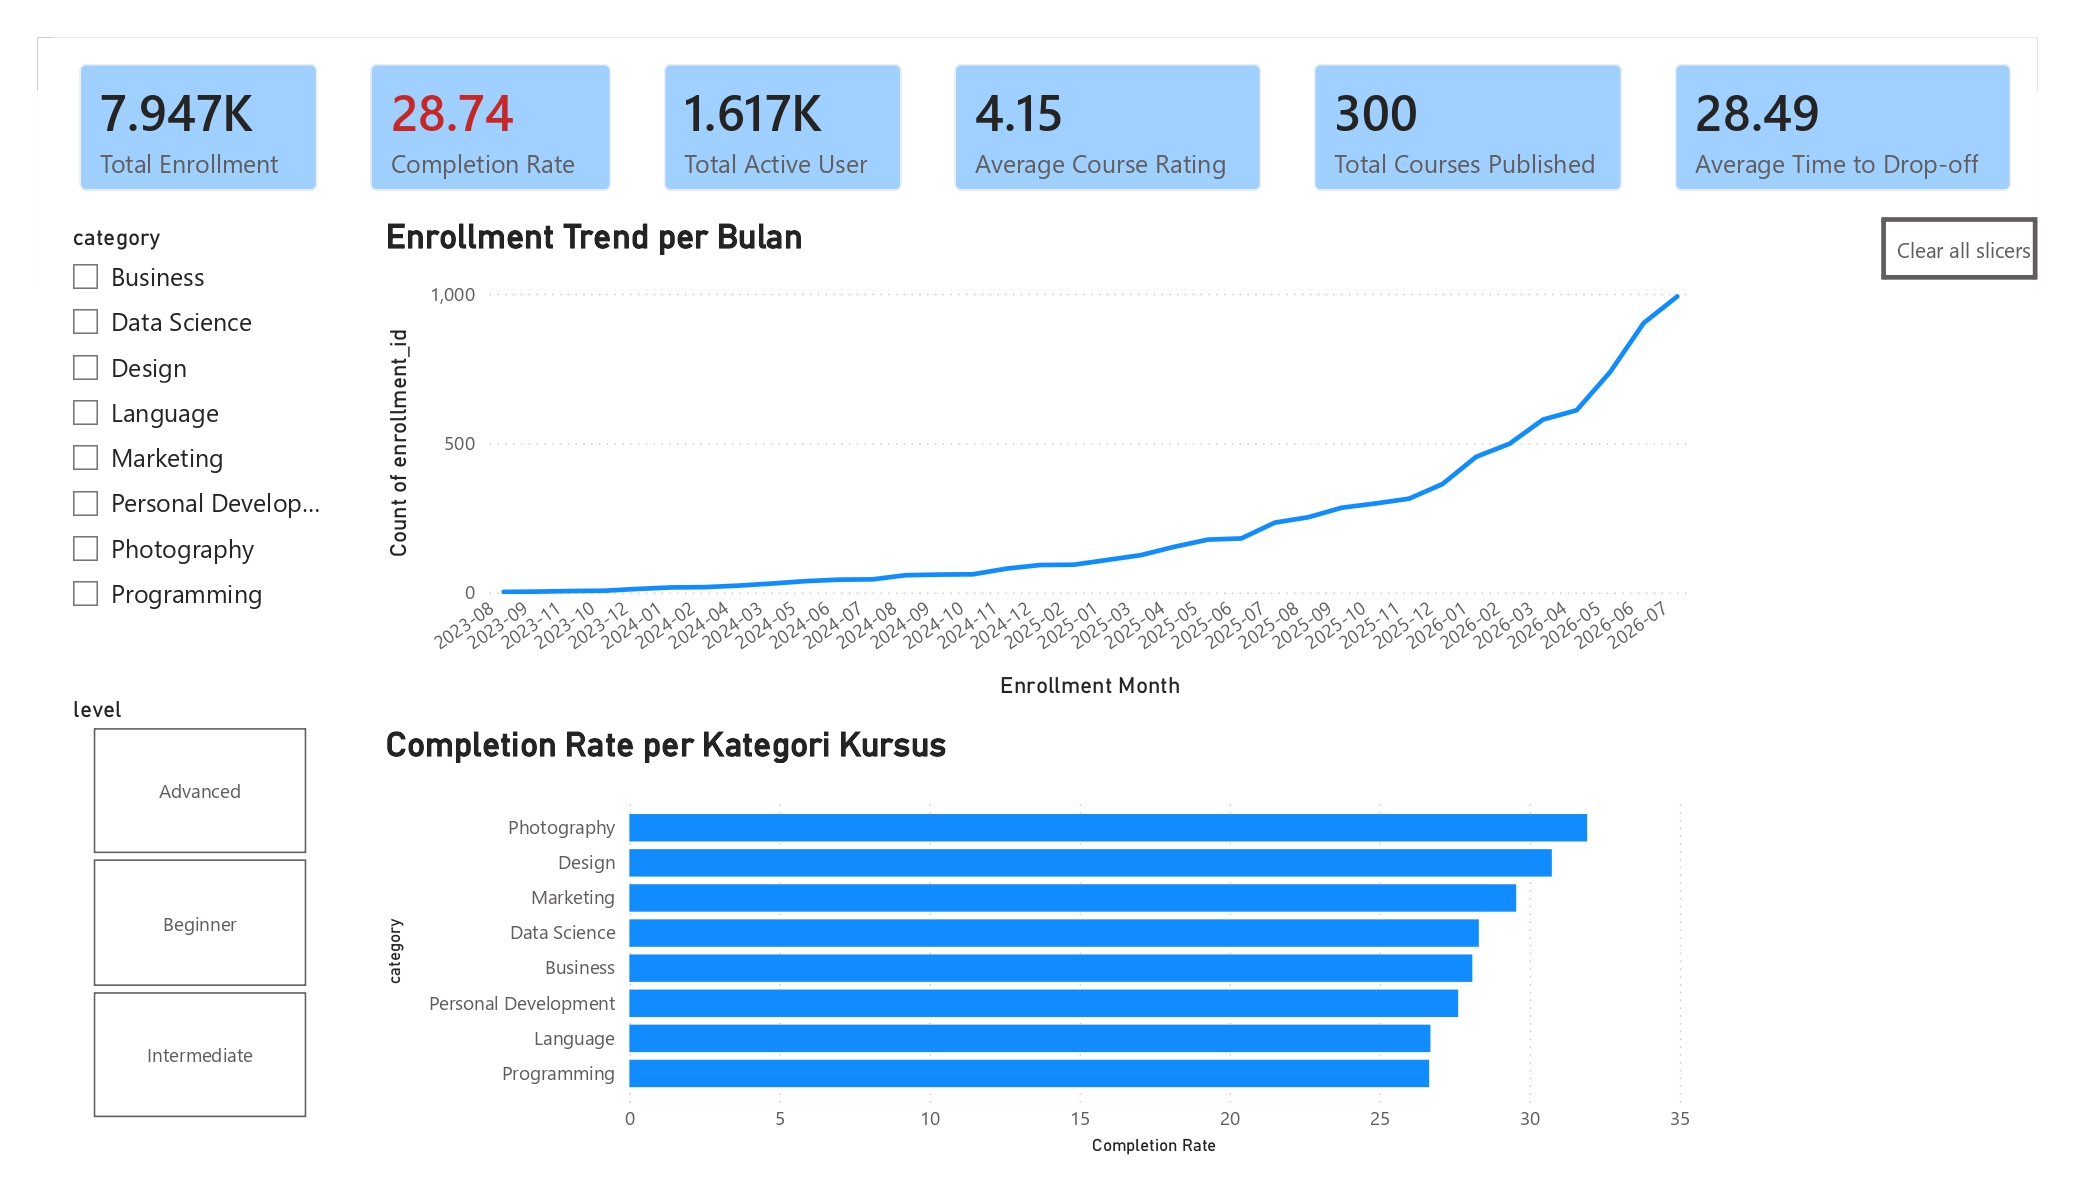

The page's visual inventory and layout, read from the dashboard file:
{"tool":"powerbi","page":{"name":"Overview","canvas":[1280,720],"ordinal":1},"visuals":[{"type":"cardVisual","fields":{"Data":["CountNonNull(fact_enrollments_cleaned.enrollment_id)"]},"box":[10,0,185.7,114.7],"z":0},{"type":"cardVisual","fields":{"Data":["fact_enrollments_cleaned.Completion Rate"]},"box":[195.7,0,188.2,114.7],"z":1000},{"type":"cardVisual","fields":{"Data":["dim_users_cleaned.User Aktif Count"]},"box":[384,0,185.7,114.7],"z":2000},{"type":"cardVisual","fields":{"Data":["Avg(fact_reviews_cleaned.rating)"]},"box":[569.7,0,230.6,114.7],"z":3000},{"type":"cardVisual","fields":{"Data":["dim_courses_cleaned.Total Courses"]},"box":[800.3,0,230.6,114.7],"z":4000},{"type":"cardVisual","fields":{"Data":["fact_enrollments_cleaned.Avg Time to Dropoff"]},"box":[1030.9,0,249.3,114.7],"z":5000},{"type":"lineChart","title":"Enrollment Trend per Bulan","fields":{"Category":["fact_enrollments_cleaned.Enrollment Month"],"Y":["CountNonNull(fact_enrollments_cleaned.enrollment_id)"]},"box":[217.5,115,845.3,313.3],"z":6000},{"type":"clusteredBarChart","title":"Completion Rate per Kategori Kursus","fields":{"Category":["dim_courses_cleaned.category"],"Y":["fact_enrollments_cleaned.Completion Rate"]},"box":[217.5,439.6,845.3,280.7],"z":7000},{"type":"slicer","fields":{"Values":["dim_courses_cleaned.category"]},"box":[10.1,115.1,186,313],"z":7001},{"type":"slicer","fields":{"Values":["dim_courses_cleaned.level"]},"box":[10.1,417.2,185.6,280.5],"z":7002},{"type":"actionButton","box":[1179.7,115.3,100,40],"z":7003}]}

Visuals, with their boxes on the page's 1280x720 design canvas (x1, y1, x2, y2). These are canvas units, not pixel positions in the 2075x1200 screenshot, which may show the page scaled, cropped or inside an application window:
cardVisual - CountNonNull(fact_enrollments_cleaned.enrollment_id): crop(10, 0, 196, 115)
cardVisual - fact_enrollments_cleaned.Completion Rate: crop(196, 0, 384, 115)
cardVisual - dim_users_cleaned.User Aktif Count: crop(384, 0, 570, 115)
cardVisual - Avg(fact_reviews_cleaned.rating): crop(570, 0, 800, 115)
cardVisual - dim_courses_cleaned.Total Courses: crop(800, 0, 1031, 115)
cardVisual - fact_enrollments_cleaned.Avg Time to Dropoff: crop(1031, 0, 1280, 115)
"Enrollment Trend per Bulan" lineChart: crop(218, 115, 1063, 428)
"Completion Rate per Kategori Kursus" clusteredBarChart: crop(218, 440, 1063, 720)
slicer - dim_courses_cleaned.category: crop(10, 115, 196, 428)
slicer - dim_courses_cleaned.level: crop(10, 417, 196, 698)
actionButton: crop(1180, 115, 1280, 155)
